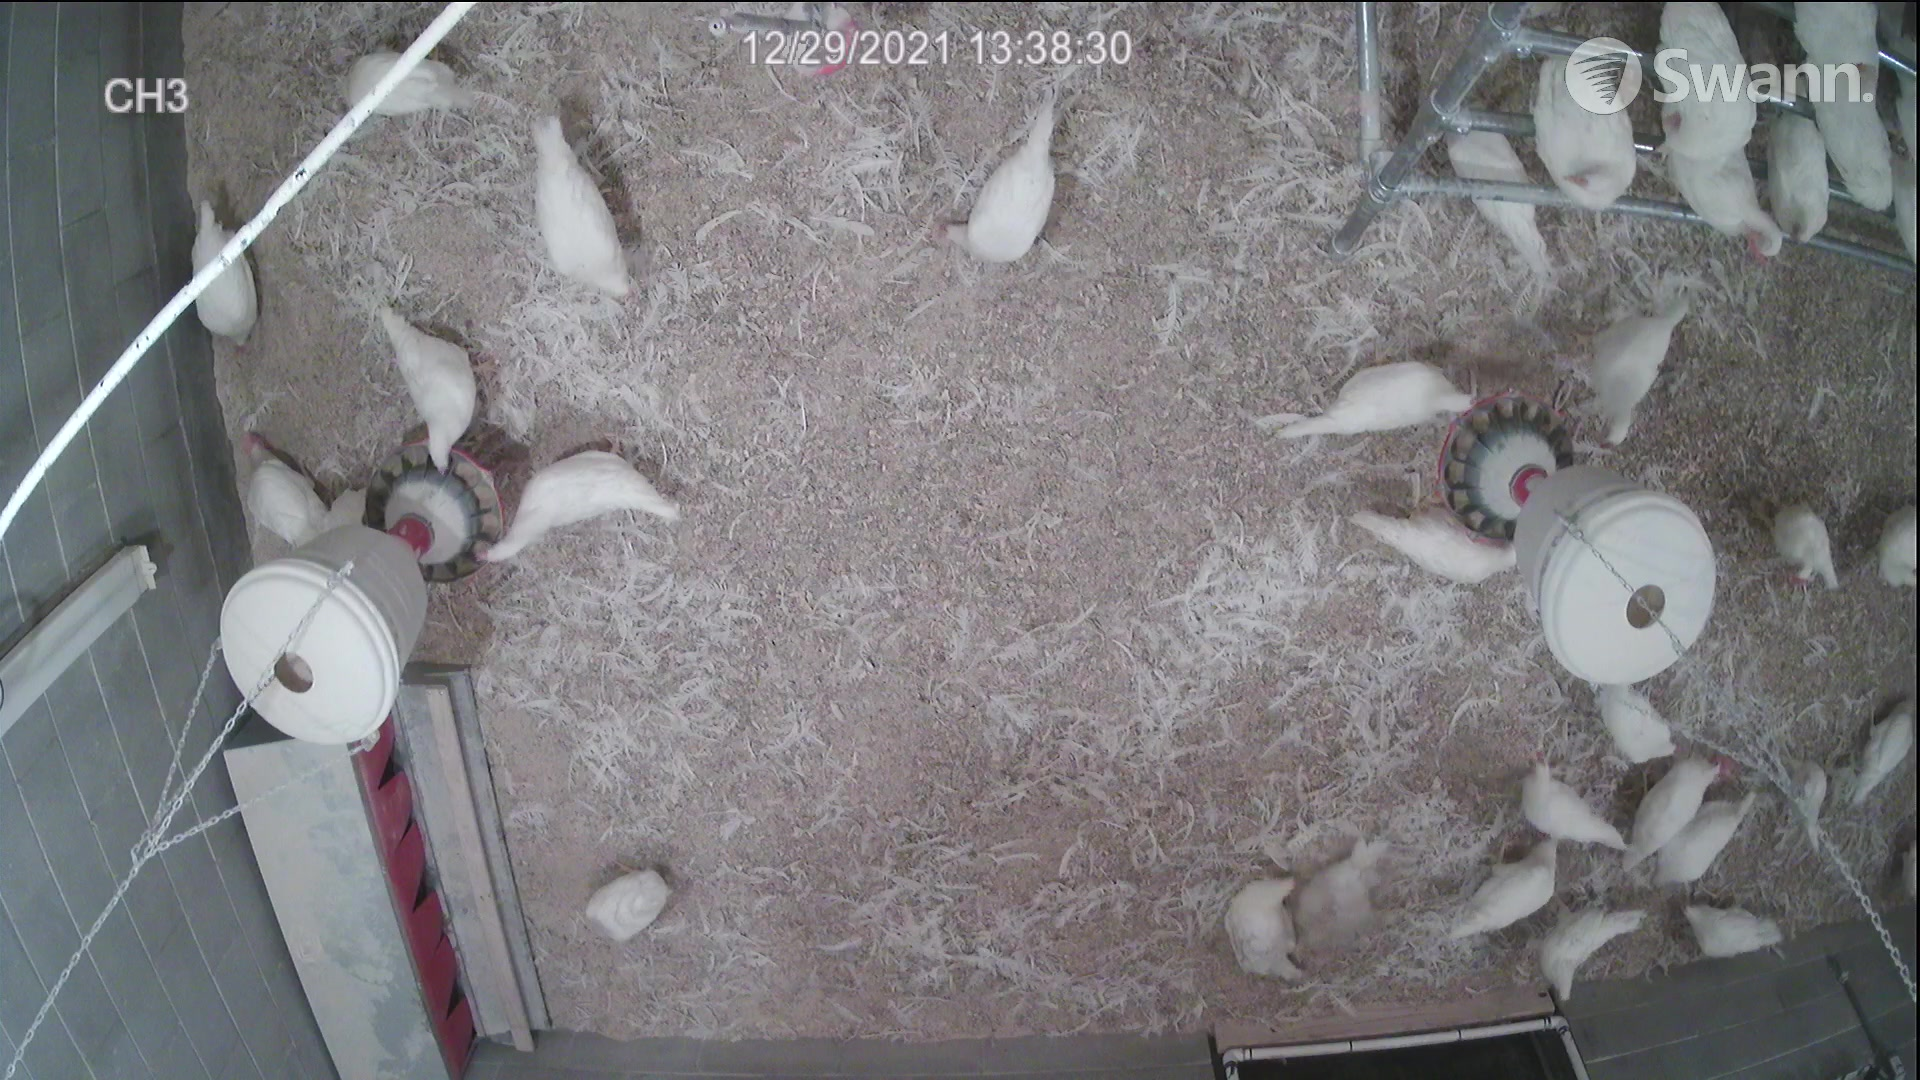Dust Bathing: (1212, 872, 1323, 986), (1295, 840, 1404, 956)
Feeding: (462, 444, 691, 559), (1270, 349, 1481, 469), (375, 301, 497, 483)
Foraging: (531, 113, 680, 301), (948, 84, 1072, 285), (1524, 753, 1644, 861), (345, 46, 483, 124), (185, 211, 255, 353), (574, 862, 676, 948)
Perching: (1534, 41, 1629, 211), (1669, 138, 1789, 265), (1651, 0, 1746, 160), (1796, 91, 1903, 214), (1738, 109, 1826, 218)
